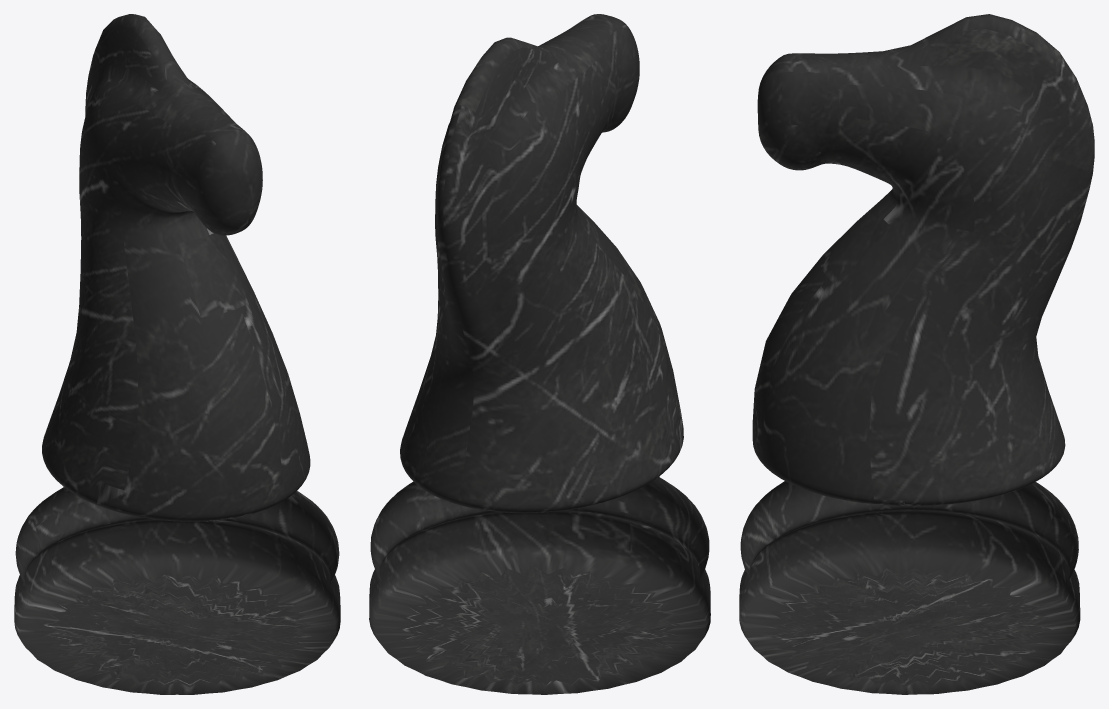
File: BKnight.glb
The picture shows the model from 3 angles, left to right: view 1: azimuth 30°, elevation 25°; view 2: azimuth 150°, elevation 25°; view 3: azimuth 270°, elevation 25°; orthographic projection. The views are drawn at different scales.
Visible parts, largest first — view 1: Circle.003; view 2: Circle.003; view 3: Circle.003.
Part boxes in pixels (bbox=[...]): Circle.003: bbox=[14, 14, 340, 694]; Circle.003: bbox=[369, 14, 710, 694]; Circle.003: bbox=[739, 14, 1094, 694].
Bounding box in the file's own units: 2.67 × 5.31 × 2.78.
1 material, 1 textured.
